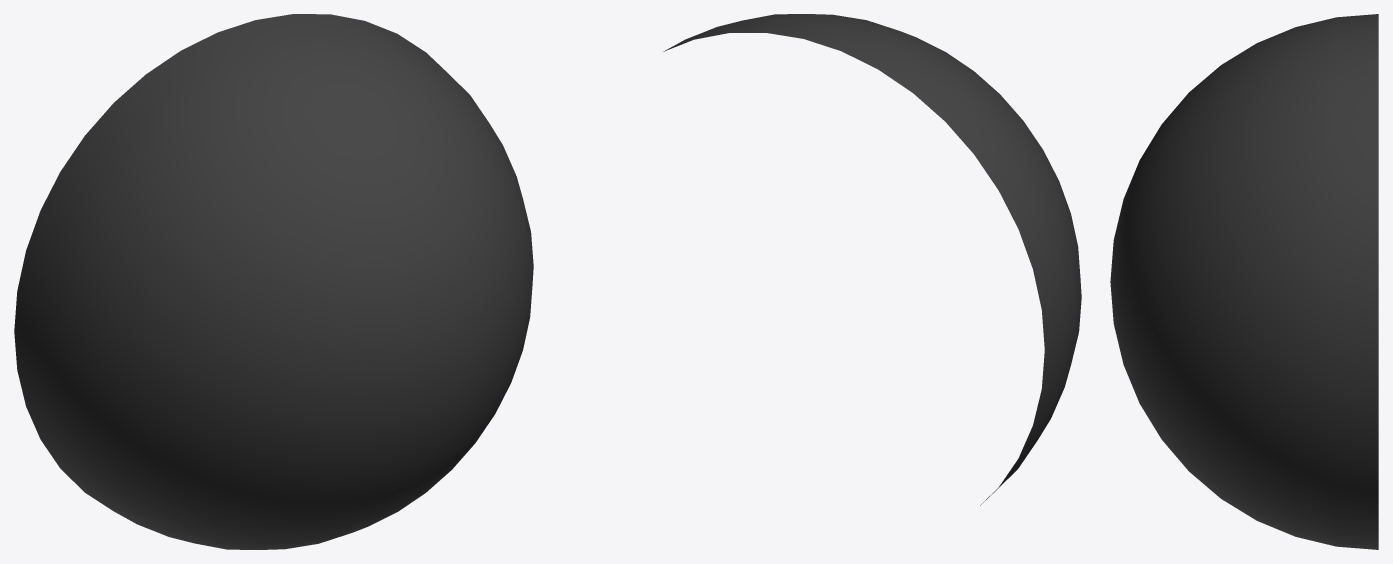
3 renders of one model, left to right at view 1: azimuth 30°, elevation 25°; view 2: azimuth 150°, elevation 25°; view 3: azimuth 270°, elevation 25°, orthographic. The views are drawn at different scales.
Parts seen in each view (by area): view 1: bd24c6fe756e_1_Sphere01.obj; view 2: bd24c6fe756e_1_Sphere01.obj; view 3: bd24c6fe756e_1_Sphere01.obj.
Part boxes in pixels (x1=…): bd24c6fe756e_1_Sphere01.obj: x1=14, y1=14, x2=533, y2=549; bd24c6fe756e_1_Sphere01.obj: x1=663, y1=14, x2=1081, y2=505; bd24c6fe756e_1_Sphere01.obj: x1=1110, y1=14, x2=1378, y2=549.
Bounding box in the file's own units: 0.1 × 0.1 × 0.05.
Materials: 1 (1 with a texture image).
